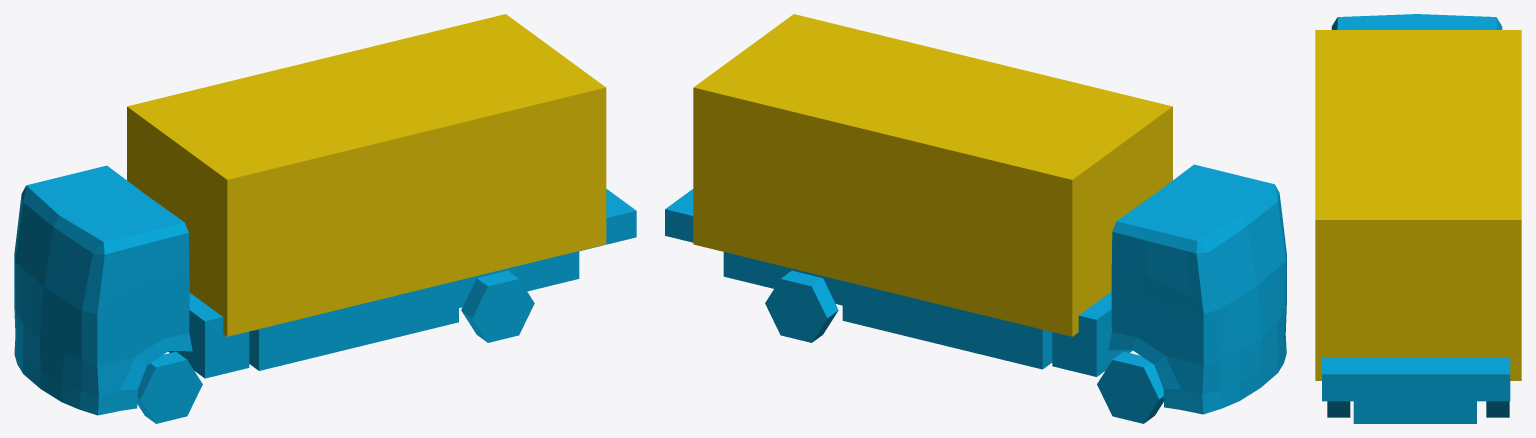
Rendered from Truck_02_Lod1.fbx.
3 views of the same model, side by side, from view 1: azimuth 30°, elevation 25°; view 2: azimuth 150°, elevation 25°; view 3: azimuth 270°, elevation 25° (orthographic). The views are drawn at different scales.
Visible parts, largest first — view 1: Truck_02_Lod1; view 2: Truck_02_Lod1; view 3: Truck_02_Lod1.
Boxes of the visible parts, left/top/right/bottom form: Truck_02_Lod1: left=14, top=14, right=636, bottom=423; Truck_02_Lod1: left=665, top=14, right=1286, bottom=423; Truck_02_Lod1: left=1315, top=14, right=1521, bottom=423.
Size of the model in its own units: 1073 by 433 by 339.
